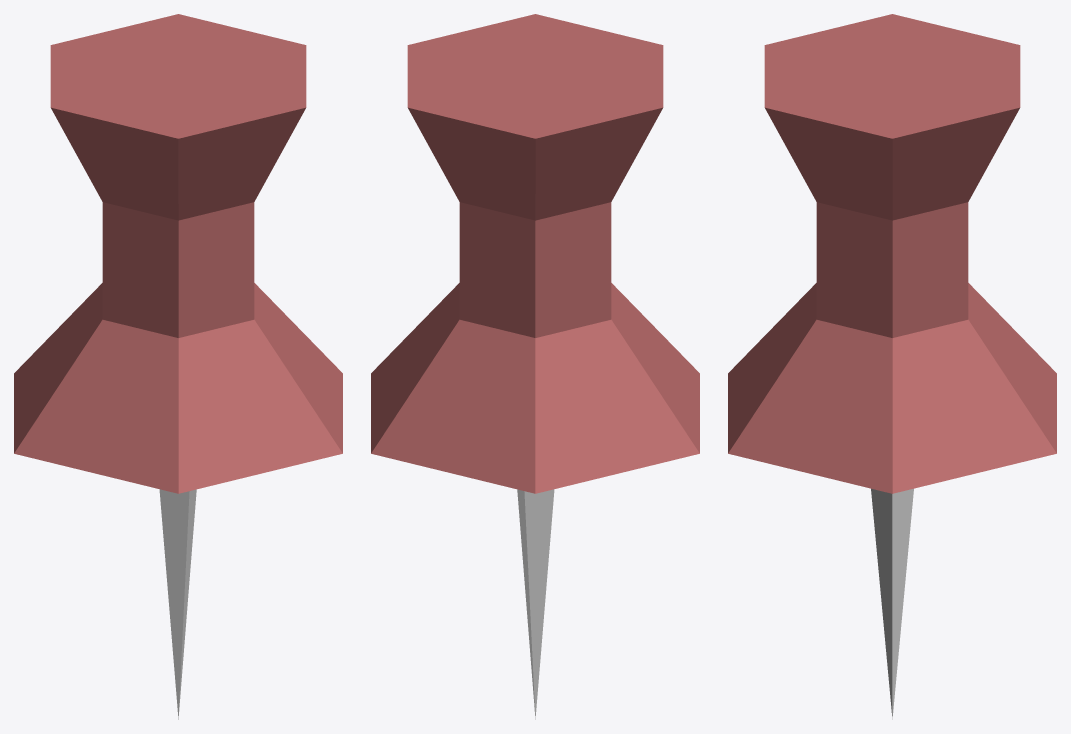
Rendered from Pin.fbx.
3 views of the same model, side by side, from view 1: azimuth 30°, elevation 25°; view 2: azimuth 150°, elevation 25°; view 3: azimuth 270°, elevation 25° (orthographic).
Parts seen in each view (by area): view 1: pPin; view 2: pPin; view 3: pPin.
Boxes of the visible parts, x1,y1,x2,y2 form: pPin: [14, 14, 342, 719]; pPin: [371, 14, 699, 719]; pPin: [728, 14, 1056, 719].
Size of the model in its own units: 0.2393 by 0.4473 by 0.2072.
